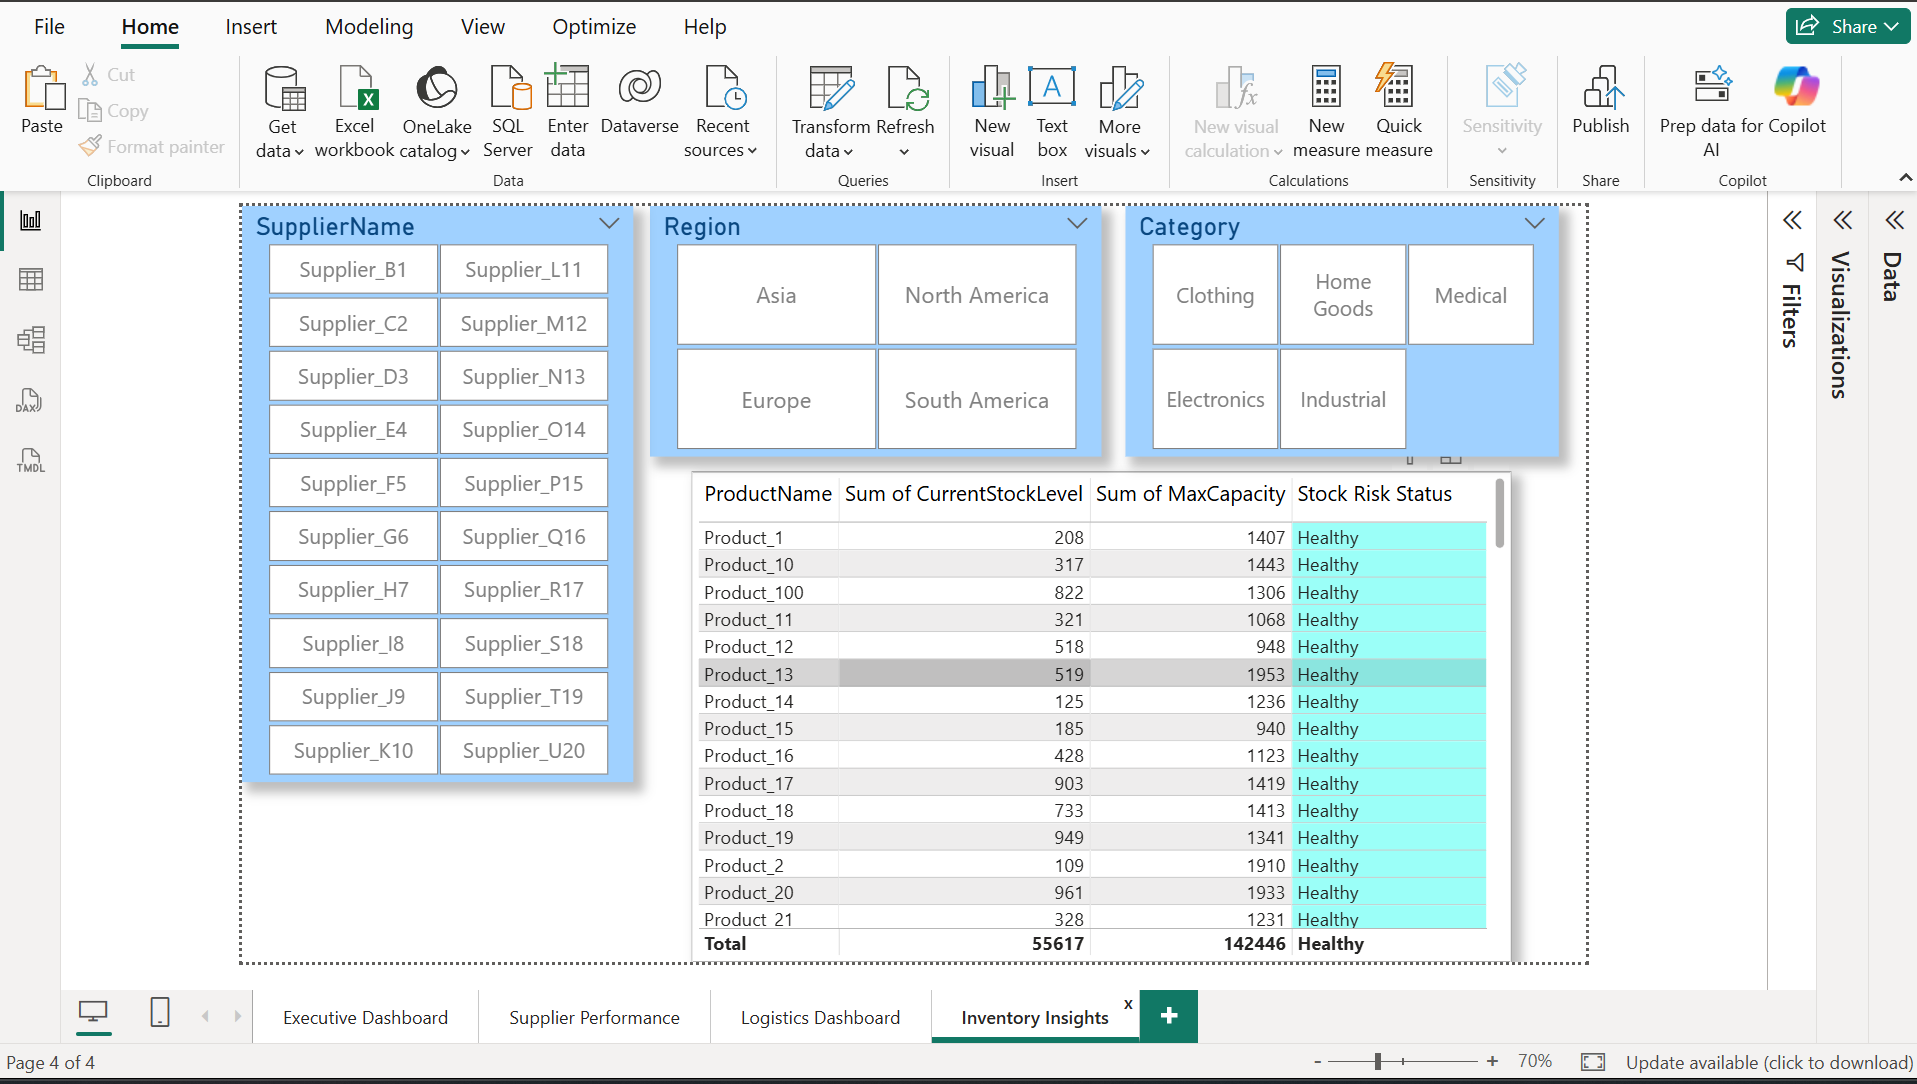

Layout of this report page (visuals, bound fields, positions):
{"tool":"powerbi","page":{"name":"Inventory Insights","canvas":[1280,720],"ordinal":3},"visuals":[{"type":"tableEx","fields":{"Values":["dim_products.ProductName","Sum(fact_inventory.CurrentStockLevel)","Sum(fact_inventory.MaxCapacity)","fact_inventory.Stock Risk Status"]},"box":[428.6,252.9,780,467.1],"z":0},{"type":"actionButton","box":[0,0,100,40],"z":1000},{"type":"slicer","fields":{"Values":["dim_suppliers.Region"]},"box":[388.6,0,430,238.6],"z":1001},{"type":"slicer","fields":{"Values":["dim_suppliers.SupplierName"]},"box":[0,0,372.9,548.6],"z":1002},{"type":"slicer","fields":{"Values":["dim_products.Category"]},"box":[841.4,0,412.9,238.6],"z":1003}]}

Visuals, with their boxes on the page's 1280x720 design canvas (x1, y1, x2, y2). These are canvas units, not pixel positions in the 1917x1084 screenshot, which may show the page scaled, cropped or inside an application window:
tableEx - dim_products.ProductName x Sum(fact_inventory.CurrentStockLevel): 429:253:1209:720
actionButton: 0:0:100:40
slicer - dim_suppliers.Region: 389:0:819:239
slicer - dim_suppliers.SupplierName: 0:0:373:549
slicer - dim_products.Category: 841:0:1254:239
